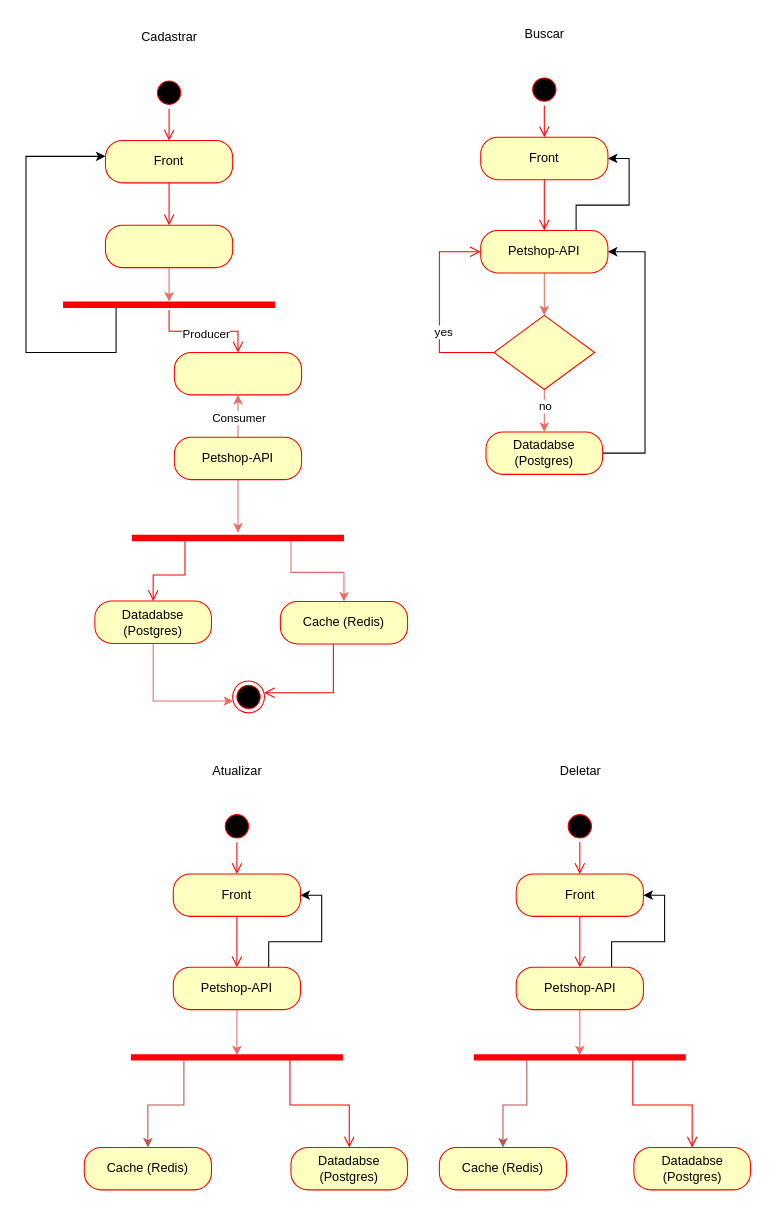
The diagram is 770 pixels wide and 1208 high, and some of its shapes have lost their labels. The shapes that lost their labels are listed below. From the top down, each one's centre as x and y in pixels, then its label:
At [168,246]: "API Cadastro (Fail Fast)".
At [544,352]: "Cache? (Redis)".
At [237,373]: "Topico (Kafka)".
